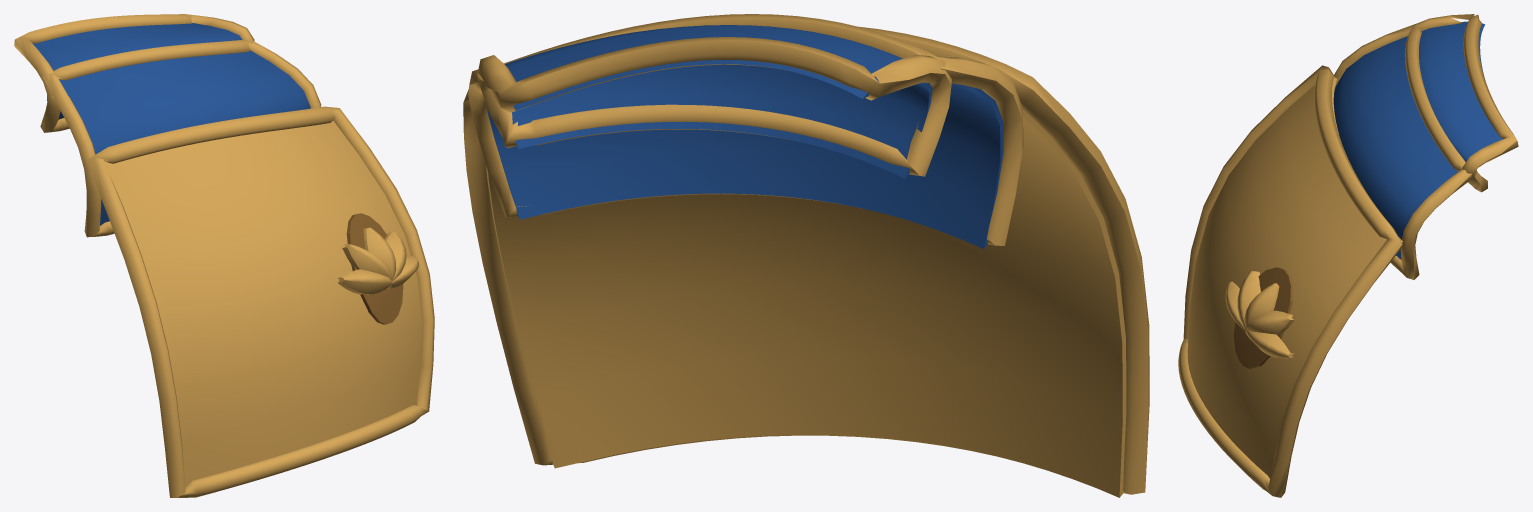
The model's file is shoulder-armour-mid.glb.
3 views of the same model, side by side, from view 1: azimuth 30°, elevation 25°; view 2: azimuth 150°, elevation 25°; view 3: azimuth 270°, elevation 25° (orthographic). The views are drawn at different scales.
Parts seen in each view (by area): view 1: OriginalLeftShoulderArmour; view 2: OriginalLeftShoulderArmour; view 3: OriginalLeftShoulderArmour.
Part boxes in pixels (bbox=[...]): OriginalLeftShoulderArmour: bbox=[14, 14, 434, 497]; OriginalLeftShoulderArmour: bbox=[463, 14, 1149, 497]; OriginalLeftShoulderArmour: bbox=[1178, 14, 1518, 497].
Bounding box in the file's own units: 0.1064 × 0.1159 × 0.1019.
